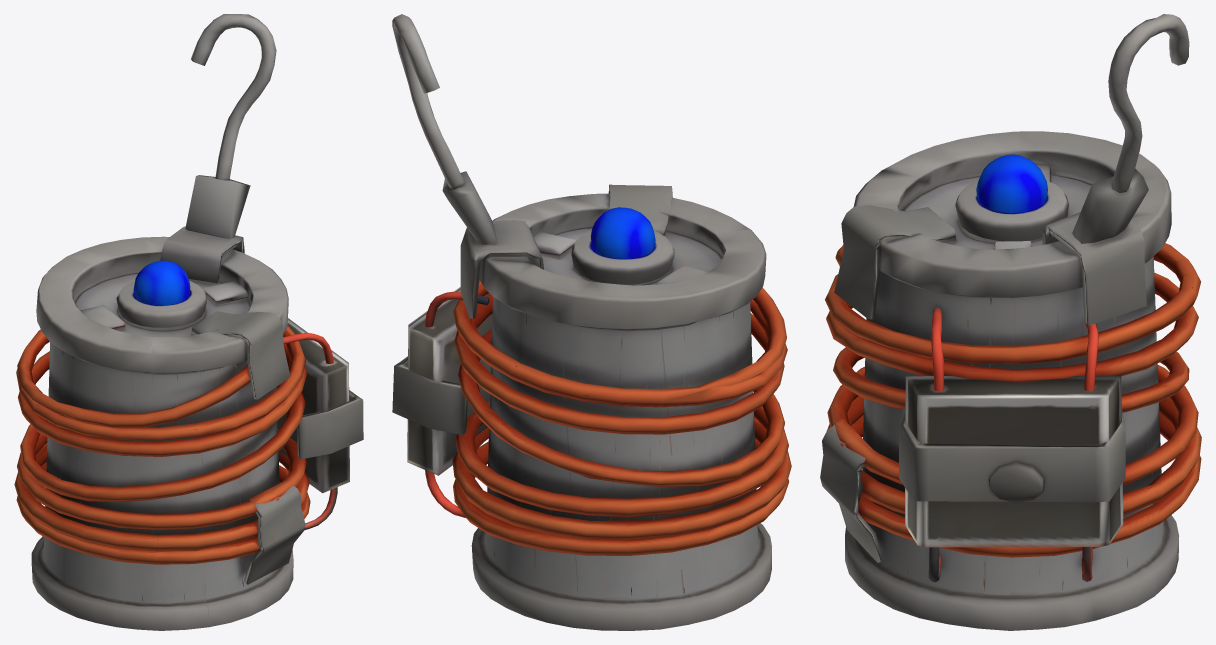
The model's file is emp.glb.
3 renders of one model, left to right at view 1: azimuth 30°, elevation 25°; view 2: azimuth 150°, elevation 25°; view 3: azimuth 270°, elevation 25°, orthographic. The views are drawn at different scales.
Parts seen in each view (by area): view 1: geometry_0; view 2: geometry_0; view 3: geometry_0.
Part boxes in pixels (x1,y1,x2,y2): geometry_0: (14, 14, 363, 630); geometry_0: (392, 14, 791, 630); geometry_0: (820, 14, 1201, 630).
Bounding box in the file's own units: 0.6407 × 1 × 0.5544.
1 material, 1 textured.
